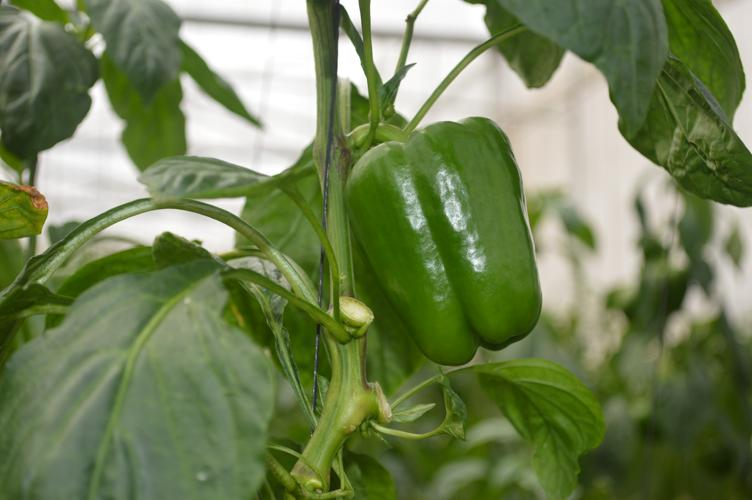BellPepper: (346, 116, 540, 360)
